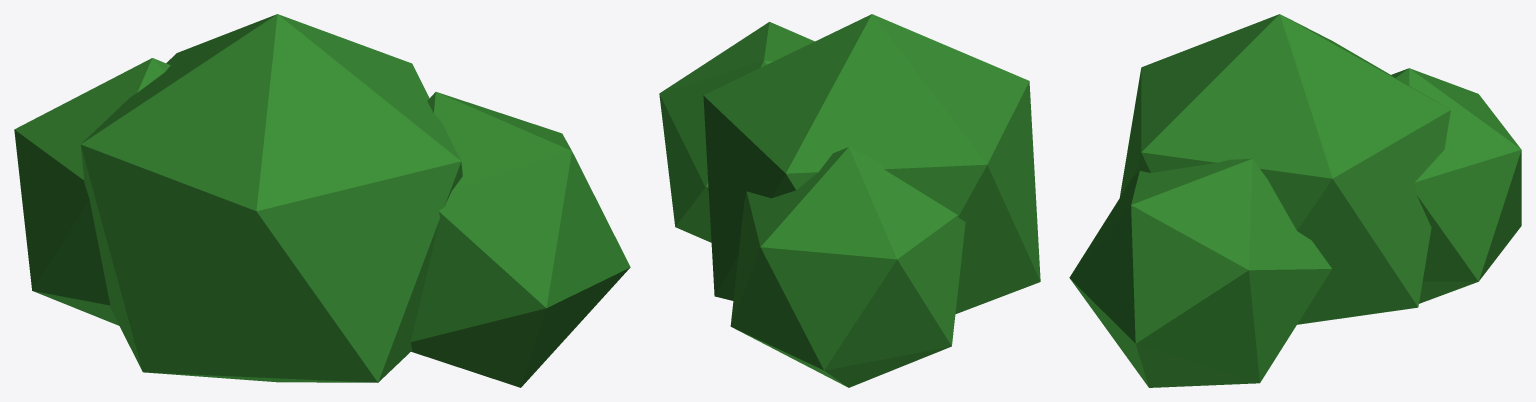
Rendered from Bush.fbx.
3 renders of one model, left to right at view 1: azimuth 30°, elevation 25°; view 2: azimuth 150°, elevation 25°; view 3: azimuth 270°, elevation 25°, orthographic. The views are drawn at different scales.
Parts seen in each view (by area): view 1: Bush; view 2: Bush; view 3: Bush.
Part boxes in pixels (x1=…): Bush: x1=14, y1=14, x2=630, y2=387; Bush: x1=659, y1=14, x2=1040, y2=387; Bush: x1=1069, y1=14, x2=1521, y2=387.
Size of the model in its own units: 1920 by 1546 by 2019.
